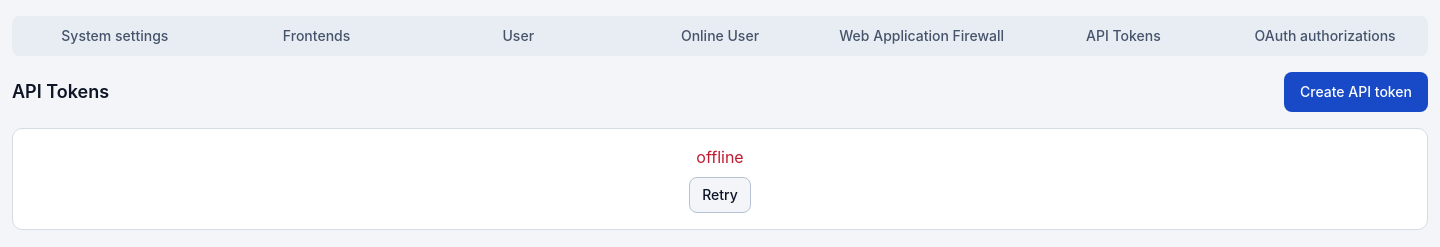
Test case: initial failure can be retried in place without showing empty results
Expected: the message reads "offline", [696,147,744,167]
Step 1. Click the button "Retry" → (720, 195), box [689,177,751,213]
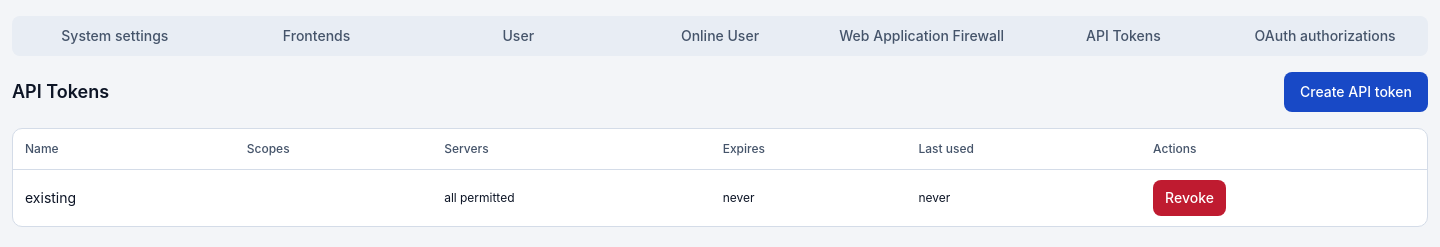
Now the text "existing" is shown, box [13,169,235,226]
Now the message "offline" is gone
